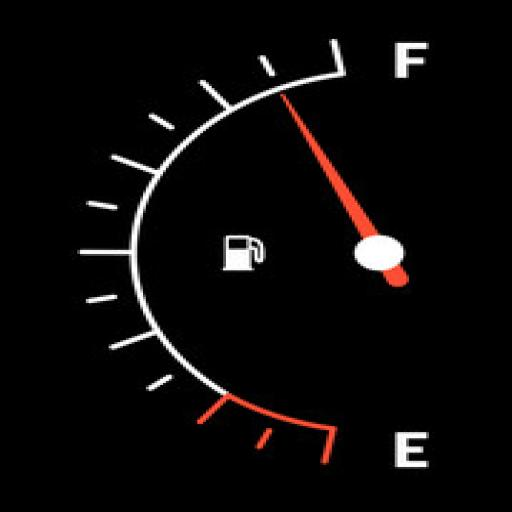empty: (390, 428, 437, 474)
fuel_icon: (215, 232, 269, 276)
full: (386, 38, 426, 81)
guage_area: (31, 30, 485, 500)
needle_center: (348, 229, 412, 287)
needle_tip: (276, 90, 312, 132)
